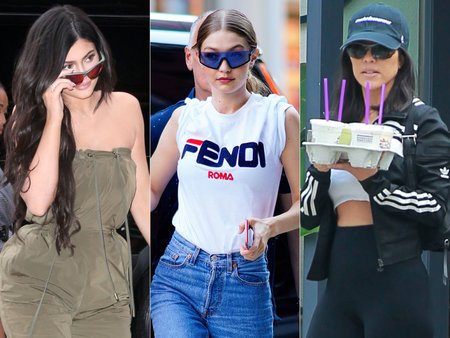jeans: (151, 228, 281, 335)
sunglasses: (179, 47, 262, 68), (52, 60, 114, 85), (340, 41, 399, 60)
